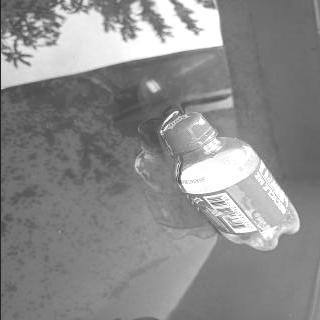bottle: (157, 110, 303, 253)
